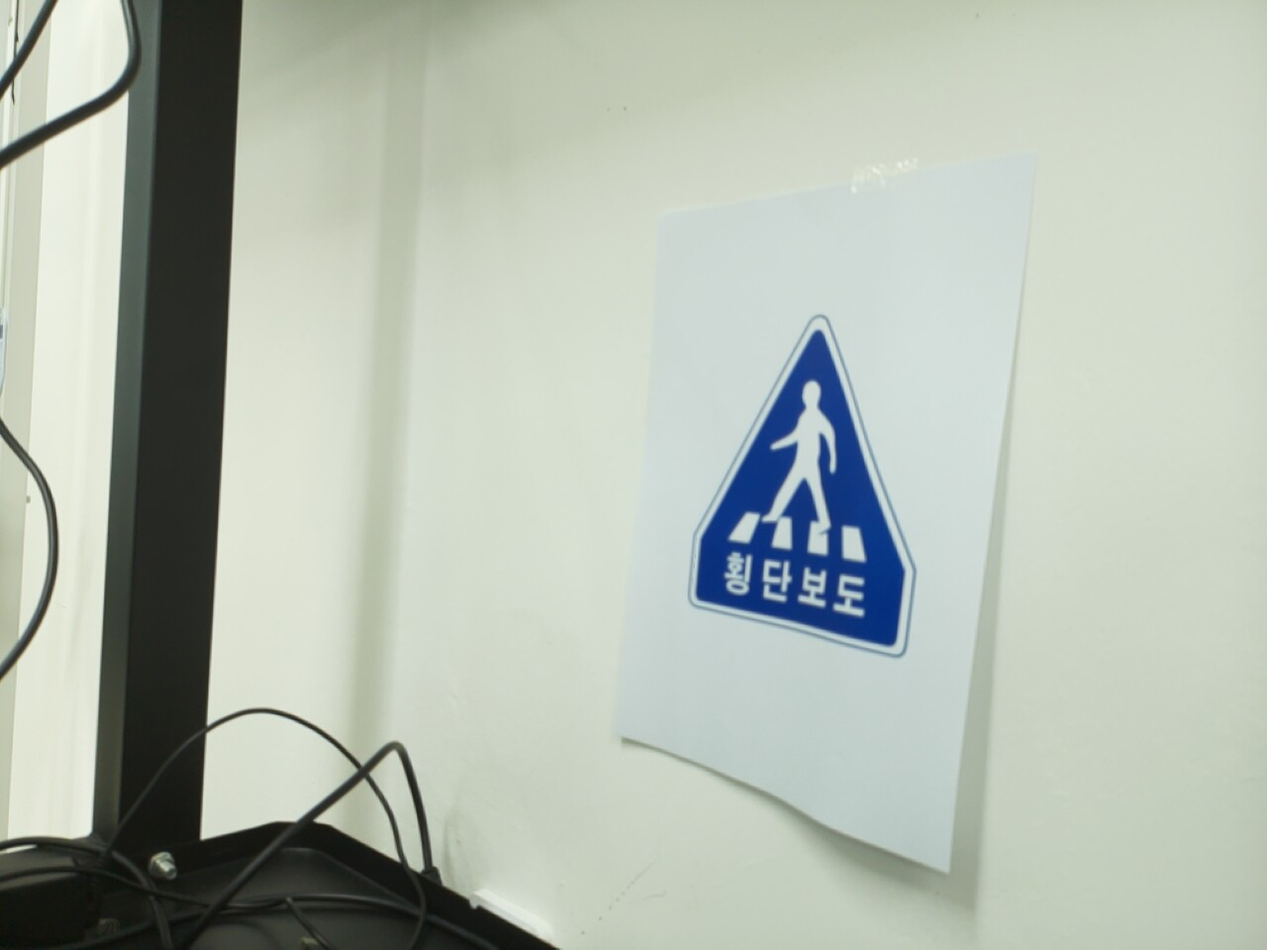crosswalk: (688, 320, 914, 656)
